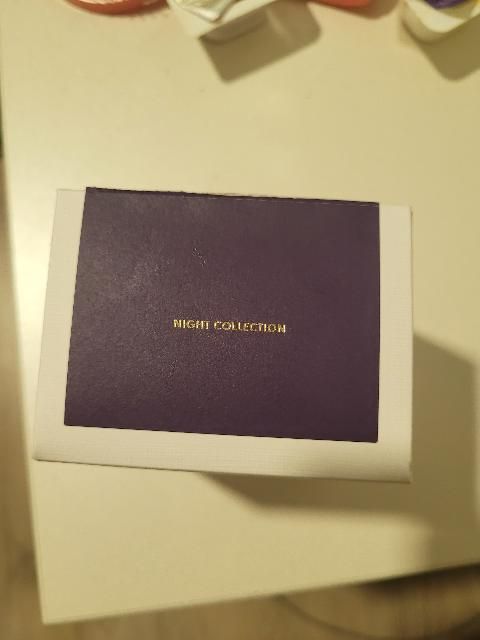Kagit: (25, 183, 426, 494)
